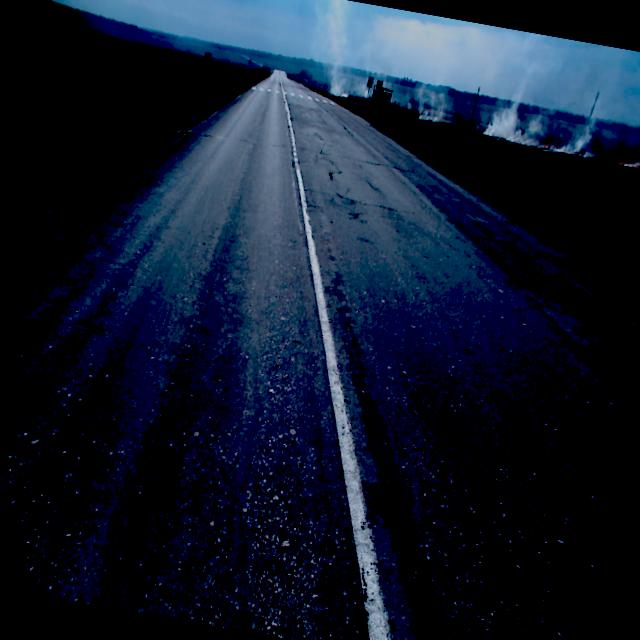road: (0, 69, 640, 640)
